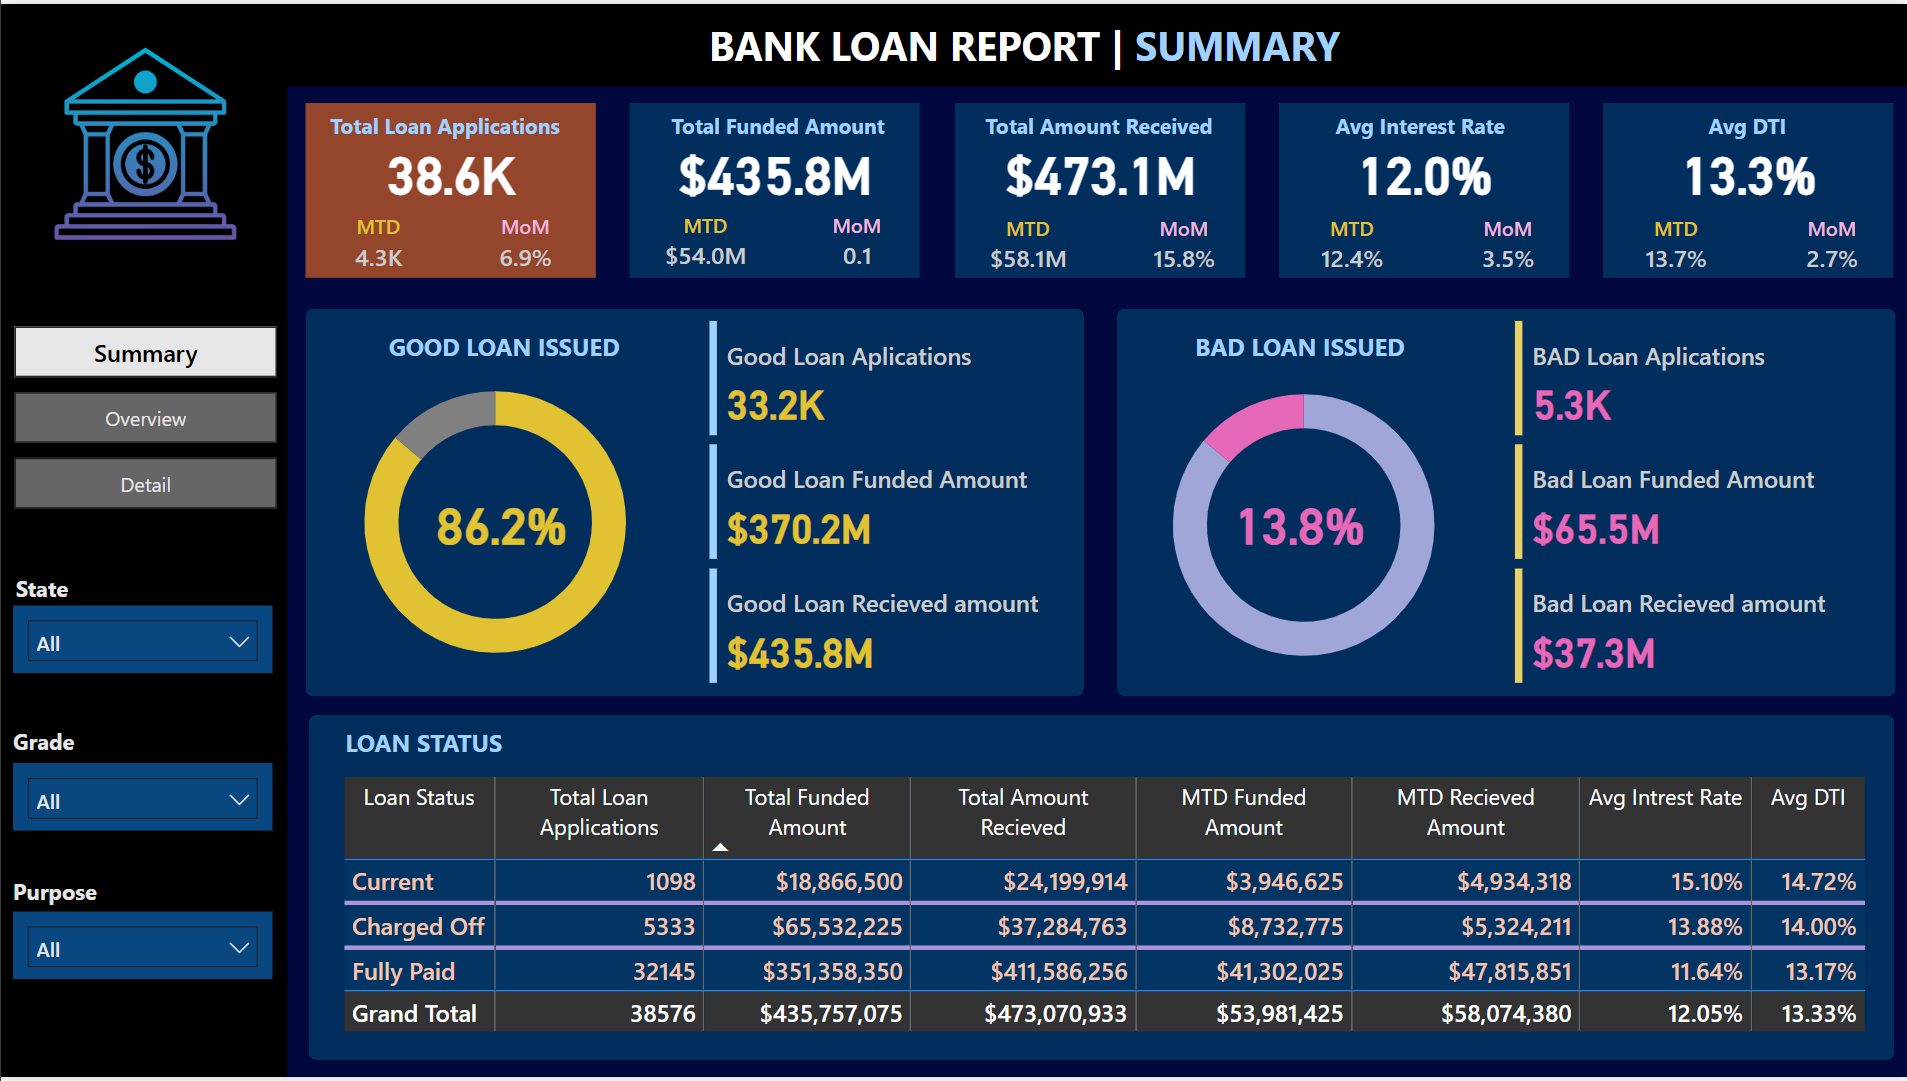

Layout of this report page (visuals, bound fields, positions):
{"tool":"powerbi","page":{"name":"Summary","canvas":[1280,720],"ordinal":0},"visuals":[{"type":"shape","box":[0,55.3,192.1,664.8],"z":0},{"type":"shape","box":[204.1,66.3,194.9,117.3],"z":0,"group":"g2"},{"type":"shape","box":[421.7,66.3,194.9,117.3],"z":0,"group":"g1"},{"type":"shape","box":[639.3,66.3,194.9,117.3],"z":0,"group":"g3"},{"type":"shape","box":[856.9,66.3,194.9,117.3],"z":0,"group":"g4"},{"type":"shape","box":[1074.5,66.3,194.9,117.3],"z":0,"group":"g5"},{"type":"card","fields":{"Values":["public bank_loan_data.Total Loan Applications"]},"box":[204.1,90.8,194.9,43.9],"z":1000,"group":"g2"},{"type":"card","fields":{"Values":["public bank_loan_data.Total Funded Amount"]},"box":[421.7,90.8,194.9,43.9],"z":1000,"group":"g1"},{"type":"card","fields":{"Values":["public bank_loan_data.Total Amount Recieved"]},"box":[639.3,90.8,194.9,43.9],"z":1000,"group":"g3"},{"type":"card","fields":{"Values":["public bank_loan_data.Avg Intrest Rate"]},"box":[856.9,90.8,194.9,43.9],"z":1000,"group":"g4"},{"type":"card","fields":{"Values":["public bank_loan_data.Avg DTI"]},"box":[1074.5,90.8,194.9,43.9],"z":1000,"group":"g5"},{"type":"shape","box":[204.1,204.1,522.4,260.2],"z":1000},{"type":"textbox","box":[204.1,66.3,194.9,34.7],"z":2000,"group":"g2"},{"type":"textbox","box":[421.7,66.3,194.9,34.7],"z":2000,"group":"g1"},{"type":"textbox","box":[639.3,66.3,194.9,34.7],"z":2000,"group":"g3"},{"type":"textbox","box":[856.9,66.3,194.9,34.7],"z":2000,"group":"g4"},{"type":"textbox","box":[1074.5,66.3,194.9,34.7],"z":2000,"group":"g5"},{"type":"donutChart","fields":{"Category":["public bank_loan_data.Good Vs Bad Loan"],"Y":["public bank_loan_data.Total Loan Applications"]},"box":[206.1,232.7,250,229.6],"z":2000},{"type":"shape","box":[0,0,1279.6,55.1],"z":3000},{"type":"card","title":"MTD","fields":{"Values":["public bank_loan_data.MTD Loan Apllications"]},"box":[218.4,139.8,69.4,45.9],"z":3000,"group":"g2"},{"type":"card","title":"MTD","fields":{"Values":["public bank_loan_data.MTD Recieved Amount"]},"box":[653.6,140.8,69.4,45.9],"z":3000,"group":"g3"},{"type":"card","title":"MTD","fields":{"Values":["public bank_loan_data.MTD Avg INT Rate"]},"box":[871.2,140.8,69.4,45.9],"z":3000,"group":"g4"},{"type":"card","title":"MTD","fields":{"Values":["public bank_loan_data.MTD Avg DTI"]},"box":[1088.8,140.8,69.4,45.9],"z":3000,"group":"g5"},{"type":"card","title":"MoM","fields":{"Values":["public bank_loan_data.MoM Loan Applications"]},"box":[316.3,139.8,69.4,45.9],"z":4000,"group":"g2"},{"type":"card","title":"MoM","fields":{"Values":["public bank_loan_data.MoM Recived Amount"]},"box":[757.7,140.8,69.4,45.9],"z":4000,"group":"g3"},{"type":"card","title":"MoM","fields":{"Values":["public bank_loan_data.MoM AVG INT Rate"]},"box":[975.3,140.8,69.4,45.9],"z":4000,"group":"g4"},{"type":"card","title":"MoM","fields":{"Values":["public bank_loan_data.MoM AVG DTI"]},"box":[1192.9,140.8,69.4,45.9],"z":4000,"group":"g5"},{"type":"textbox","box":[1,376.2,66.4,34.2],"z":4000},{"type":"group","id":"g1","title":"Group 1","box":[421.7,66.3,194.9,117.3],"z":5000},{"type":"textbox","box":[243.9,212.8,203.1,34.7],"z":6000},{"type":"card","title":"MTD","fields":{"Values":["public bank_loan_data.MTD Funded Amount"]},"box":[437.8,138.8,69.4,45.9],"z":7000},{"type":"card","title":"MoM","fields":{"Values":["public bank_loan_data.MoM Funded Amount"]},"box":[538.8,138.8,69.4,45.9],"z":8000},{"type":"card","fields":{"Values":["public bank_loan_data.good loan %"]},"box":[270.4,325.5,129.6,43.9],"z":9000},{"type":"textbox","box":[469.7,4,520,46.3],"z":10000},{"type":"group","id":"g2","title":"Group 1","box":[204.1,66.3,194.9,119.4],"z":11000},{"type":"group","id":"g3","title":"Group 1","box":[639.3,66.3,194.9,120.4],"z":12000},{"type":"group","id":"g4","title":"Group 1","box":[856.9,66.3,194.9,120.4],"z":13000},{"type":"group","id":"g5","title":"Group 1","box":[1074.5,66.3,194.9,120.4],"z":14000},{"type":"shape","box":[748,204.1,522.4,260.2],"z":15000},{"type":"cardVisual","fields":{"Data":["public bank_loan_data.Good Loan Aplications","public bank_loan_data.Good Loan Funded Amount","public bank_loan_data.Good Loan Recieved amount"]},"box":[469.4,207.1,253.1,255.1],"z":16000},{"type":"donutChart","fields":{"Category":["public bank_loan_data.Good Vs Bad Loan"],"Y":["public bank_loan_data.Total Loan Applications"]},"box":[748,234.7,250,229.6],"z":17000},{"type":"textbox","box":[772.4,212.8,203.1,34.7],"z":18000},{"type":"card","fields":{"Values":["public bank_loan_data.Bad loan %"]},"box":[806.1,325.5,129.6,43.9],"z":19000},{"type":"cardVisual","fields":{"Data":["public bank_loan_data.BAD Loan Aplications","public bank_loan_data.Bad Loan Funded Amount","public bank_loan_data.Bad Loan Recieved amount"]},"box":[1010.2,207.1,253.1,255.1],"z":20000},{"type":"shape","box":[206.1,476.5,1063.3,231.6],"z":21000},{"type":"tableEx","fields":{"Values":["public bank_loan_data.loan_status","public bank_loan_data.Total Loan Applications","public bank_loan_data.Total Funded Amount","public bank_loan_data.Total Amount Recieved","public bank_loan_data.MTD Funded Amount","public bank_loan_data.MTD Recieved Amount","public bank_loan_data.Avg Intrest Rate","public bank_loan_data.Avg DTI"]},"box":[224.5,513.3,1035.7,194.9],"z":22000},{"type":"textbox","box":[214.3,478.6,203.1,34.7],"z":23000},{"type":"slicer","fields":{"Values":["public bank_loan_data.address_state"]},"box":[8,403.3,174,45.3],"z":24000},{"type":"slicer","fields":{"Values":["public bank_loan_data.grade"]},"box":[8,508.9,174,45.3],"z":25000},{"type":"textbox","box":[3,478.8,66.4,34.2],"z":26000},{"type":"slicer","fields":{"Values":["public bank_loan_data.purpose"]},"box":[8,608.5,174,45.3],"z":27000},{"type":"textbox","box":[3,579.3,87.5,34.2],"z":28000},{"type":"pageNavigator","box":[9.1,216.2,176,122.7],"z":28001},{"type":"image","box":[27.2,18.1,138.8,150.9],"z":28002}]}

Visuals, with their boxes in screenshot pixels (x1, y1, x2, y2), scaled from the page's 1280x720 canvas onto the 1907x1081 screenshot:
shape: locate(0, 83, 286, 1080)
shape: locate(304, 100, 594, 276)
shape: locate(628, 100, 919, 276)
shape: locate(952, 100, 1243, 276)
shape: locate(1277, 100, 1567, 276)
shape: locate(1601, 100, 1891, 276)
card - public bank_loan_data.Total Loan Applications: locate(304, 136, 594, 202)
card - public bank_loan_data.Total Funded Amount: locate(628, 136, 919, 202)
card - public bank_loan_data.Total Amount Recieved: locate(952, 136, 1243, 202)
card - public bank_loan_data.Avg Intrest Rate: locate(1277, 136, 1567, 202)
card - public bank_loan_data.Avg DTI: locate(1601, 136, 1891, 202)
shape: locate(304, 306, 1082, 697)
textbox: locate(304, 100, 594, 152)
textbox: locate(628, 100, 919, 152)
textbox: locate(952, 100, 1243, 152)
textbox: locate(1277, 100, 1567, 152)
textbox: locate(1601, 100, 1891, 152)
donutChart - public bank_loan_data.Good Vs Bad Loan x public bank_loan_data.Total Loan Applications: locate(307, 349, 680, 694)
shape: locate(0, 0, 1906, 83)
"MTD" card: locate(325, 210, 429, 279)
"MTD" card: locate(974, 211, 1077, 280)
"MTD" card: locate(1298, 211, 1401, 280)
"MTD" card: locate(1622, 211, 1726, 280)
"MoM" card: locate(471, 210, 575, 279)
"MoM" card: locate(1129, 211, 1232, 280)
"MoM" card: locate(1453, 211, 1556, 280)
"MoM" card: locate(1777, 211, 1881, 280)
textbox: locate(1, 565, 100, 616)
"Group 1" group: locate(628, 100, 919, 276)
textbox: locate(363, 319, 666, 372)
"MTD" card: locate(652, 208, 756, 277)
"MoM" card: locate(803, 208, 906, 277)
card - public bank_loan_data.good loan %: locate(403, 489, 596, 555)
textbox: locate(700, 6, 1474, 76)
"Group 1" group: locate(304, 100, 594, 279)
"Group 1" group: locate(952, 100, 1243, 280)
"Group 1" group: locate(1277, 100, 1567, 280)
"Group 1" group: locate(1601, 100, 1891, 280)
shape: locate(1114, 306, 1893, 697)
cardVisual - public bank_loan_data.Good Loan Aplications x public bank_loan_data.Good Loan Funded Amount: locate(699, 311, 1076, 694)
donutChart - public bank_loan_data.Good Vs Bad Loan x public bank_loan_data.Total Loan Applications: locate(1114, 352, 1487, 697)
textbox: locate(1151, 319, 1453, 372)
card - public bank_loan_data.Bad loan %: locate(1201, 489, 1394, 555)
cardVisual - public bank_loan_data.BAD Loan Aplications x public bank_loan_data.Bad Loan Funded Amount: locate(1505, 311, 1882, 694)
shape: locate(307, 715, 1891, 1063)
tableEx - public bank_loan_data.loan_status x public bank_loan_data.Total Loan Applications: locate(334, 771, 1878, 1063)
textbox: locate(319, 719, 622, 771)
slicer - public bank_loan_data.address_state: locate(12, 606, 271, 674)
slicer - public bank_loan_data.grade: locate(12, 764, 271, 832)
textbox: locate(4, 719, 103, 770)
slicer - public bank_loan_data.purpose: locate(12, 914, 271, 982)
textbox: locate(4, 870, 135, 921)
pageNavigator: locate(14, 325, 276, 509)
image: locate(41, 27, 247, 254)
